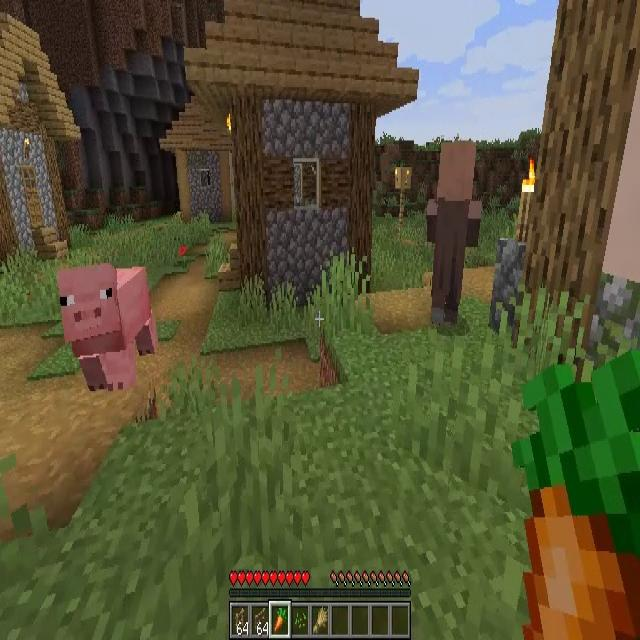people: (426, 142, 481, 330)
pig: (58, 266, 158, 389)
